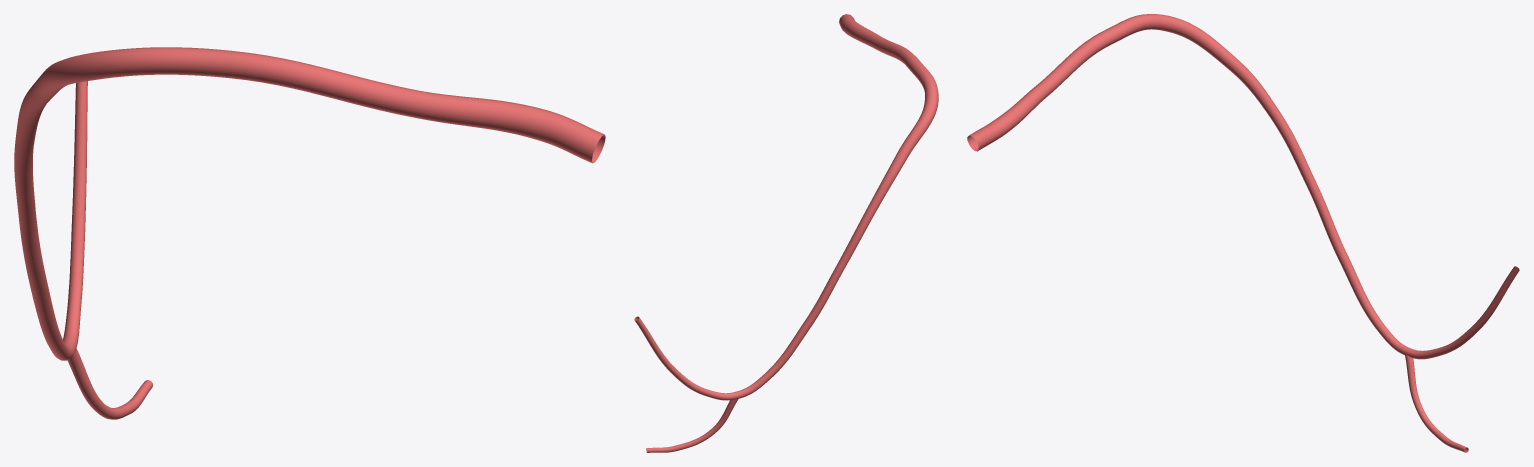
The model's file is Posterior_temporal_branch.r_BezierCurve.219.glb.
The picture shows the model from 3 angles, left to right: view 1: azimuth 30°, elevation 25°; view 2: azimuth 150°, elevation 25°; view 3: azimuth 270°, elevation 25°; orthographic projection. The views are drawn at different scales.
Parts seen in each view (by area): view 1: Posterior_temporal_branch.r_BezierCurve.219; view 2: Posterior_temporal_branch.r_BezierCurve.219; view 3: Posterior_temporal_branch.r_BezierCurve.219.
Boxes of the visible parts, x1,y1,x2,y2 form: Posterior_temporal_branch.r_BezierCurve.219: (14, 47, 605, 419); Posterior_temporal_branch.r_BezierCurve.219: (634, 14, 938, 452); Posterior_temporal_branch.r_BezierCurve.219: (967, 14, 1519, 452).
Size of the model in its own units: 0.0216 by 0.0349 by 0.0485.
